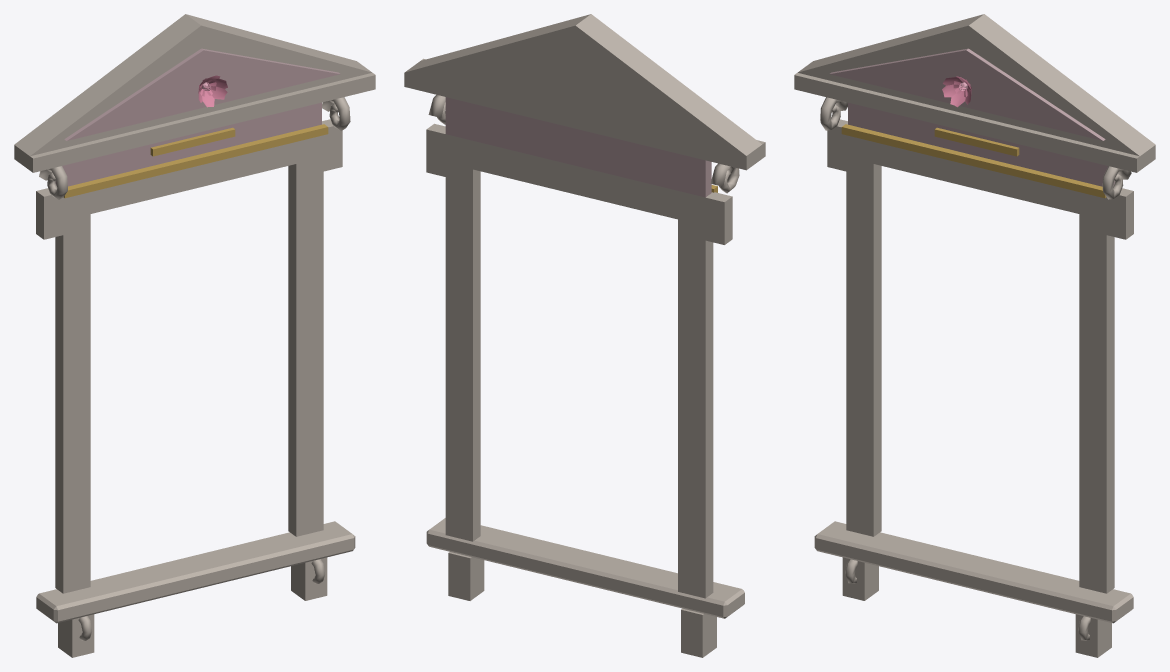
File: facade_surround_pediment.glb
3 views of the same model, side by side, from view 1: azimuth 30°, elevation 25°; view 2: azimuth 150°, elevation 25°; view 3: azimuth 330°, elevation 25° (orthographic).
Visible parts, largest first — view 1: facade_surround_pediment; view 2: facade_surround_pediment; view 3: facade_surround_pediment.
Boxes of the visible parts, x1,y1,x2,y2 form: facade_surround_pediment: (14,14,375,657); facade_surround_pediment: (404,14,765,657); facade_surround_pediment: (794,14,1155,657).
Size of what is drawn, in the model's own units: 2.5 by 4.2 by 0.3792.
